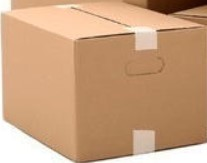stock: (2, 2, 207, 161)
